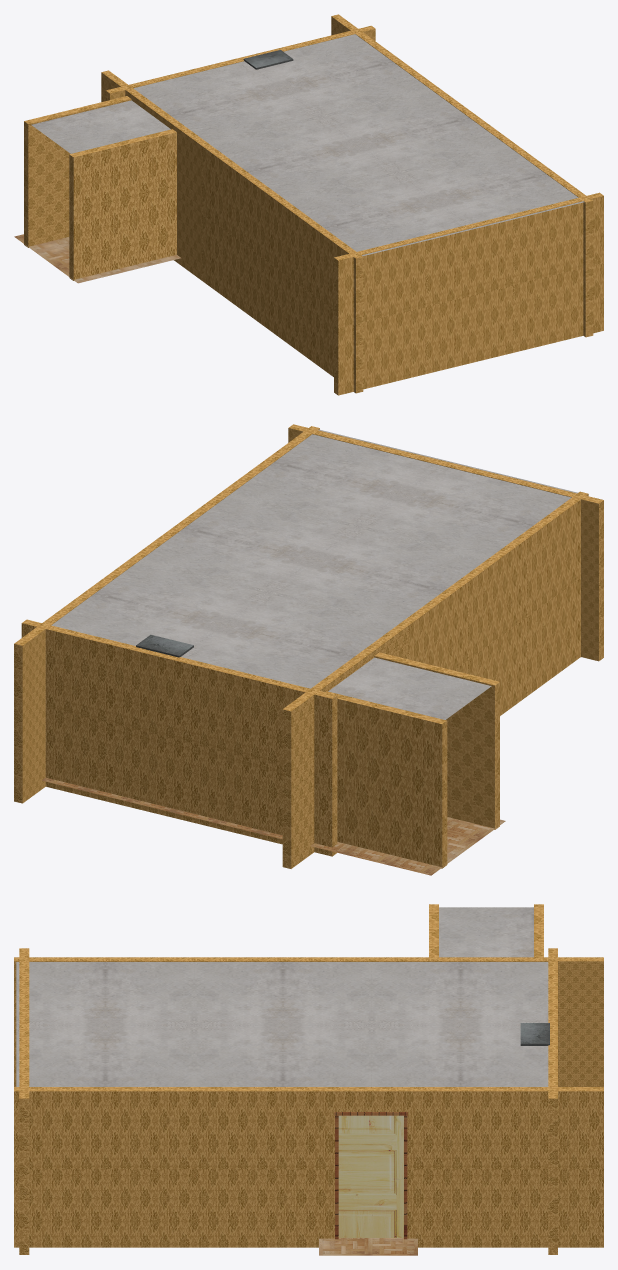
File: Room_1.fbx
The picture shows the model from 3 angles, top to bottom: view 1: azimuth 30°, elevation 25°; view 2: azimuth 150°, elevation 25°; view 3: azimuth 270°, elevation 25°; orthographic projection. The views are drawn at different scales.
Visible parts, largest first — view 1: Cube.034, Cube.032, Cube.029, Cube.033, Cube.031, Cube.030, Cube.003, Cube.035, Plane.081, Plane.085, Plane.077, Plane.086 (+25 smaller); view 2: Cube.035, Cube.008, Cube.006, Cube.034, Cube.005, Cube.009, Cube.004, Cube.007, Plane.081, Plane.085, Plane.077, Plane.083 (+25 smaller); view 3: Cube.026, Cube.022, Cube.025, Cube.028, Cube.001, Cube.027, Cube.042, Cube.024, Cube.023, Cube.021, Cube.010, Plane.085 (+32 smaller).
Boxes of the visible parts, <box> form: Cube.034: <box>69,129,176,280</box>; Cube.032: <box>421,215,516,306</box>; Cube.029: <box>425,285,515,373</box>; Cube.033: <box>334,236,428,328</box>; Cube.031: <box>509,192,603,283</box>; Cube.030: <box>334,307,428,395</box>; Cube.003: <box>513,263,603,352</box>; Cube.035: <box>24,96,131,247</box>; Plane.081: <box>209,117,358,171</box>; Plane.085: <box>286,173,435,228</box>; Plane.077: <box>171,89,320,143</box>; Plane.086: <box>398,146,546,200</box>; Cube.035: <box>325,691,447,868</box>; Cube.008: <box>124,644,234,752</box>; Cube.006: <box>124,726,229,831</box>; Cube.034: <box>374,652,499,829</box>; Cube.005: <box>226,670,337,777</box>; Cube.009: <box>21,619,128,726</box>; Cube.004: <box>226,751,337,856</box>; Cube.007: <box>45,707,127,805</box>; Plane.081: <box>269,559,443,623</box>; Plane.085: <box>358,493,532,558</box>; Plane.077: <box>224,592,398,656</box>; Plane.083: <box>314,526,488,590</box>; Cube.026: <box>131,1087,248,1169</box>; Cube.022: <box>482,1087,603,1169</box>; Cube.025: <box>131,1169,248,1247</box>; Cube.028: <box>14,1087,135,1169</box>; Cube.001: <box>482,1169,603,1247</box>; Cube.027: <box>14,1169,135,1247</box>; Cube.042: <box>338,1115,403,1237</box>; Cube.024: <box>248,1087,365,1169</box>; Cube.023: <box>365,1087,482,1169</box>; Cube.021: <box>248,1169,334,1247</box>; Cube.010: <box>407,1169,482,1247</box>; Plane.085: <box>105,962,194,1025</box>.
Bounding box in the file's own units: 1444 × 507 × 1717.
